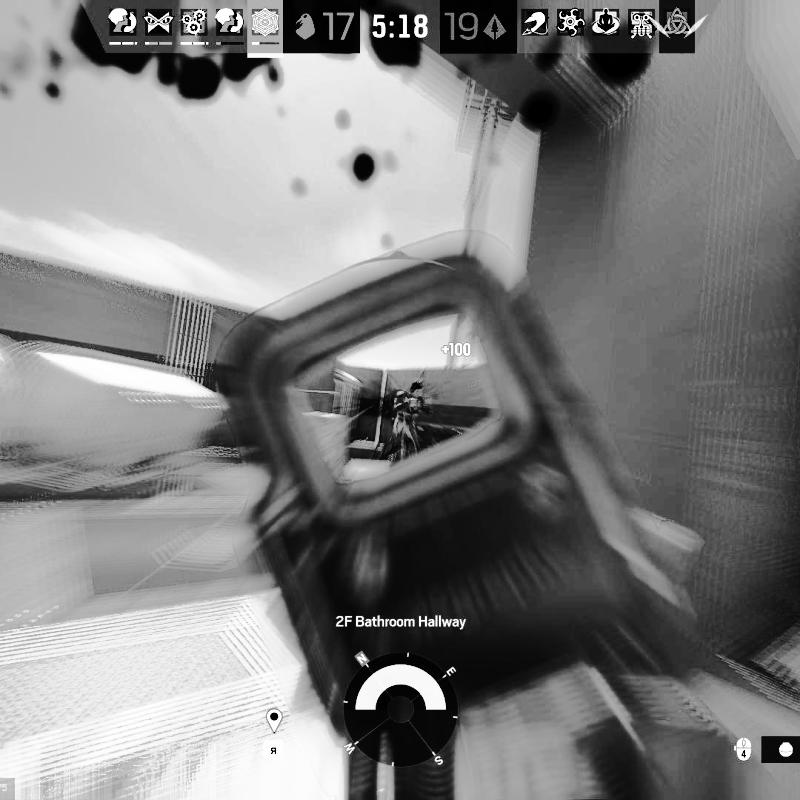Character: (389, 382, 430, 462)
Head: (410, 381, 424, 399)
